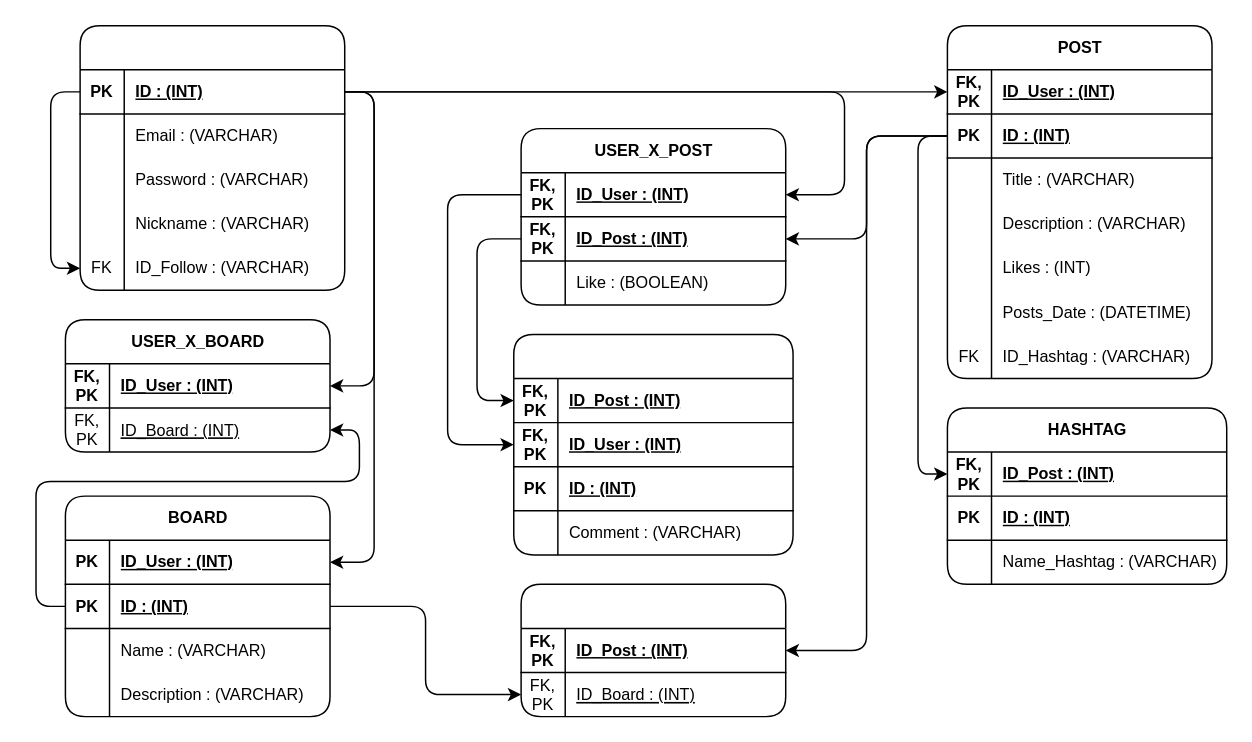
Image size: 1252x742. Some labels were removed from this diagram. Each missing label, with the box of its shape:
BOARD_X_POST: (520, 583, 786, 717)
COMMENTS: (512, 333, 793, 555)
USER: (79, 24, 345, 290)
